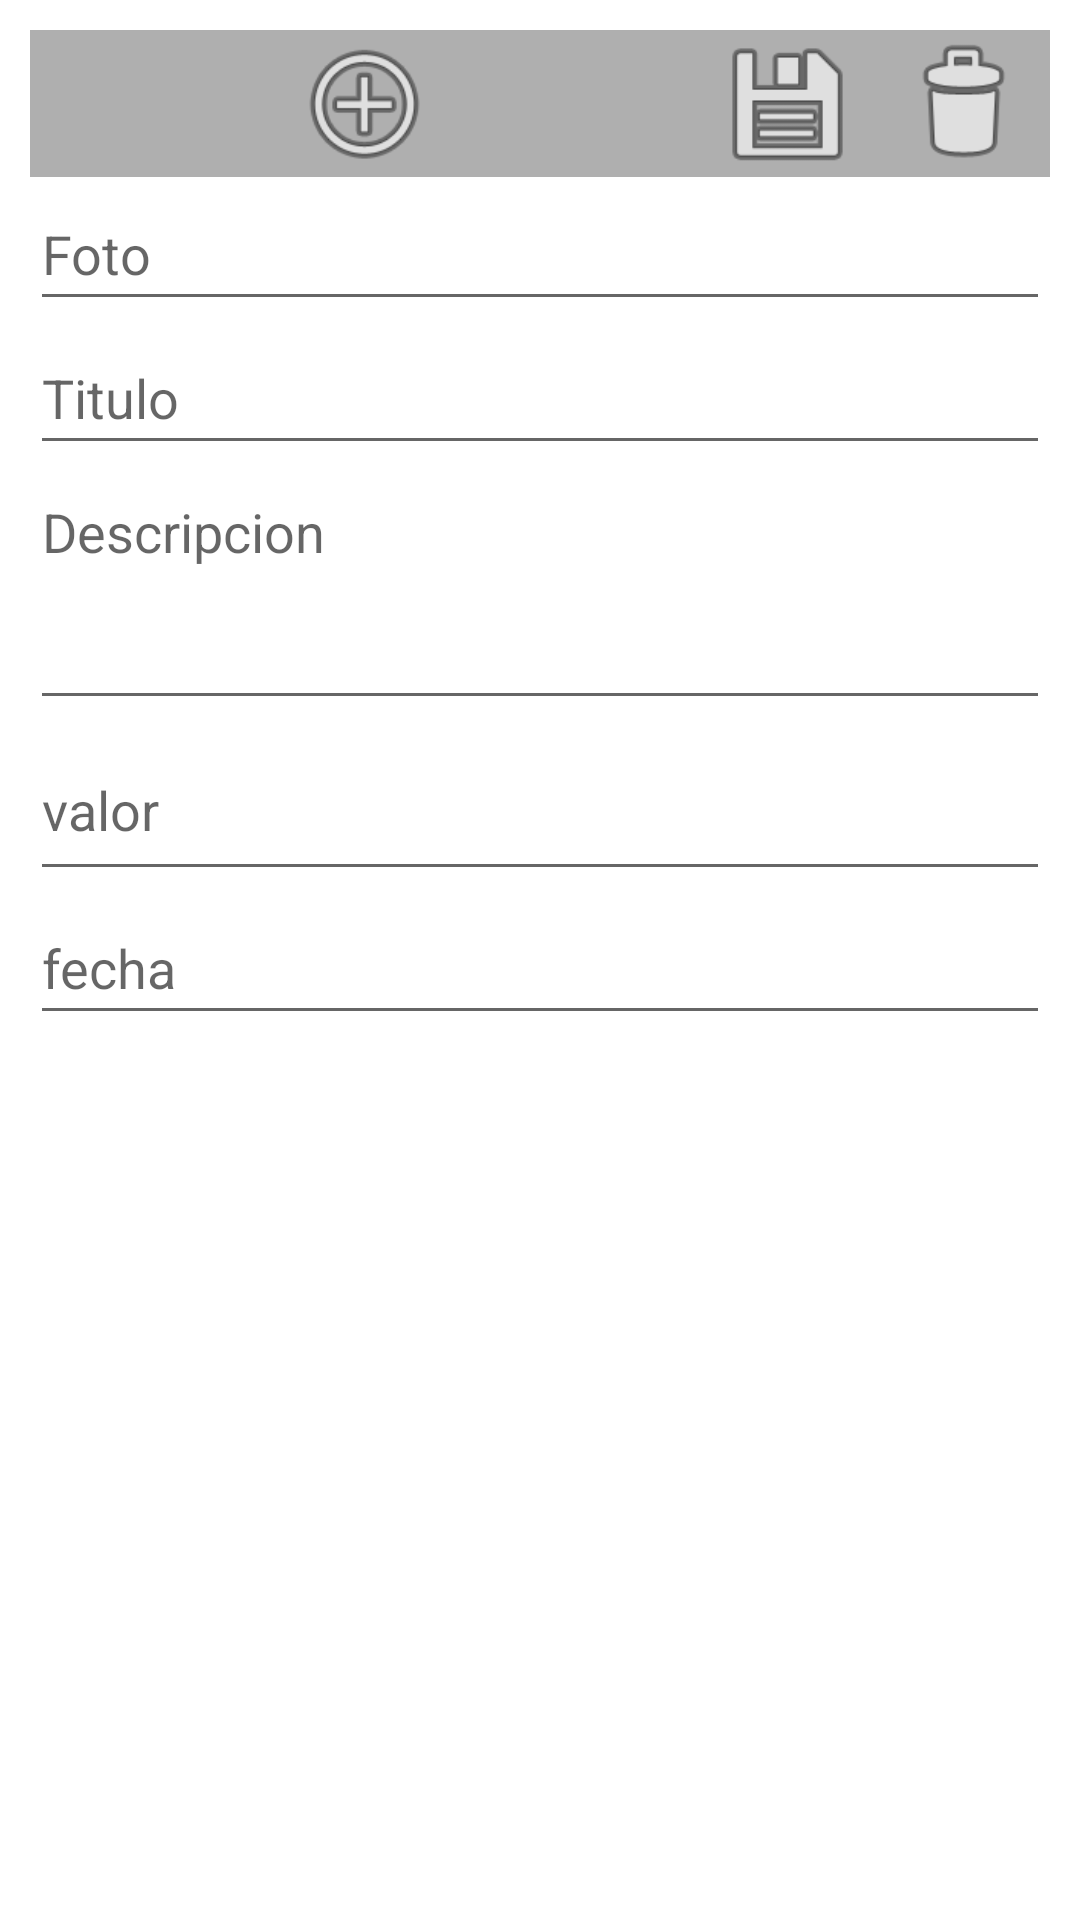

Where to tap for icons on this 1080 × 1920 app screen, as (x,y):
delete: (963,101)
save: (787,104)
